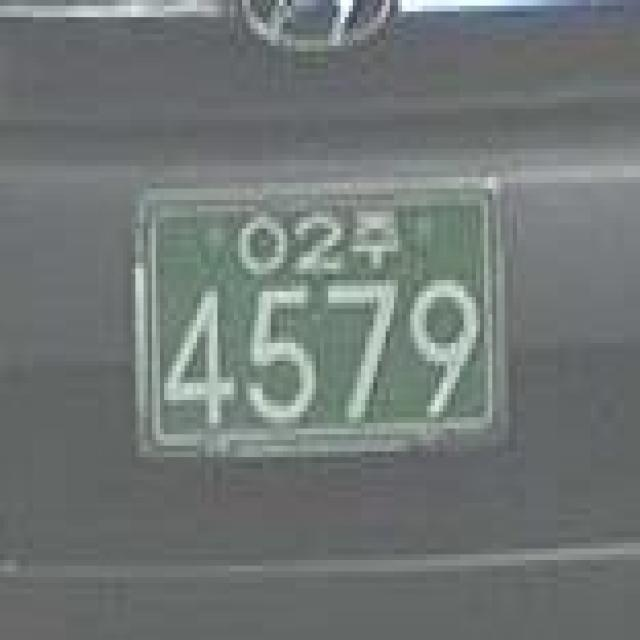illegal_plate: (125, 164, 520, 486)
